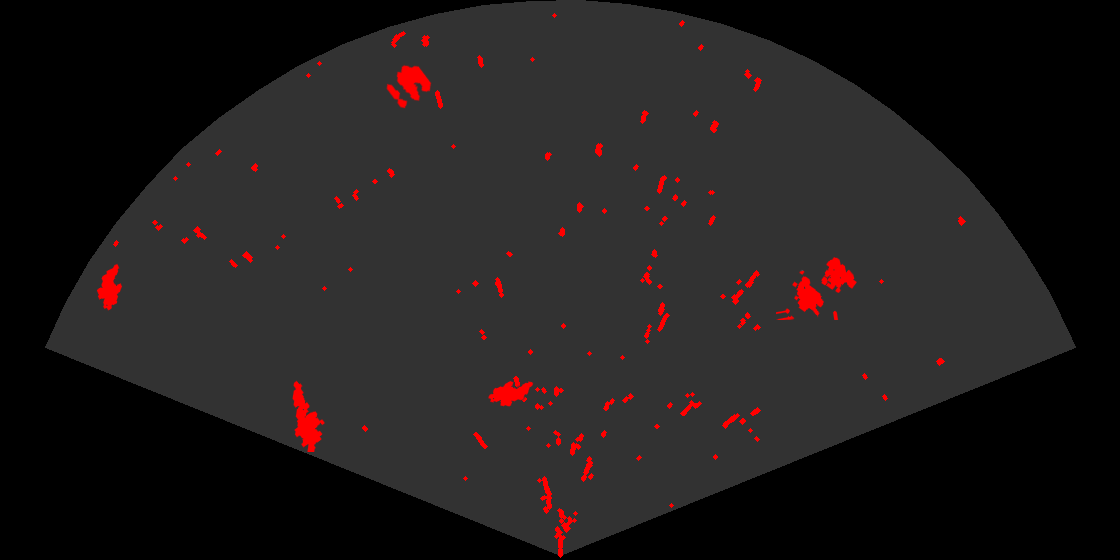AUV: (95, 262, 124, 312), (487, 379, 535, 408)
ball: (385, 63, 433, 110)
cage: (776, 256, 858, 320)
frogman: (291, 379, 326, 452)
